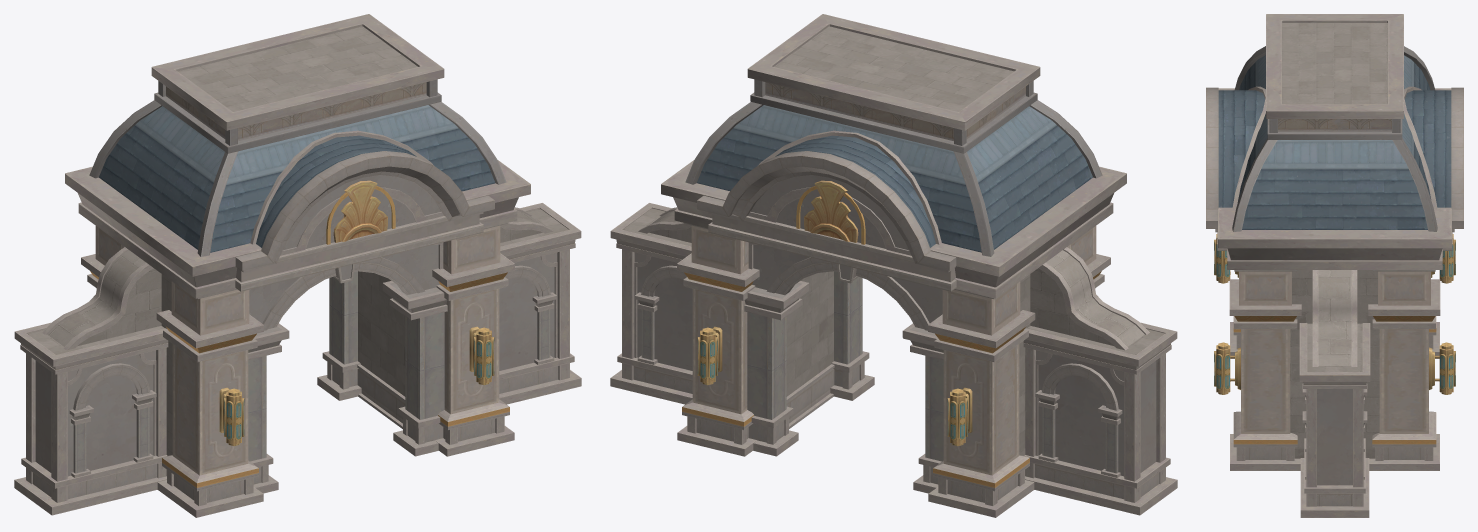
File: Homeworld_Exterior_Fd_Build_House_04_Lod0.fbx
The picture shows the model from 3 angles, left to right: view 1: azimuth 30°, elevation 25°; view 2: azimuth 150°, elevation 25°; view 3: azimuth 270°, elevation 25°; orthographic projection. The views are drawn at different scales.
Parts seen in each view (by area): view 1: Homeworld_Exterior_Fd_Build_House_04_Lod0; view 2: Homeworld_Exterior_Fd_Build_House_04_Lod0; view 3: Homeworld_Exterior_Fd_Build_House_04_Lod0.
Part boxes in pixels (<box>): Homeworld_Exterior_Fd_Build_House_04_Lod0: <box>14,14,581,517</box>; Homeworld_Exterior_Fd_Build_House_04_Lod0: <box>610,14,1177,517</box>; Homeworld_Exterior_Fd_Build_House_04_Lod0: <box>1206,14,1463,517</box>.
Size of what is drawn, in the model's own units: 14.73 by 9.84 by 6.8.
